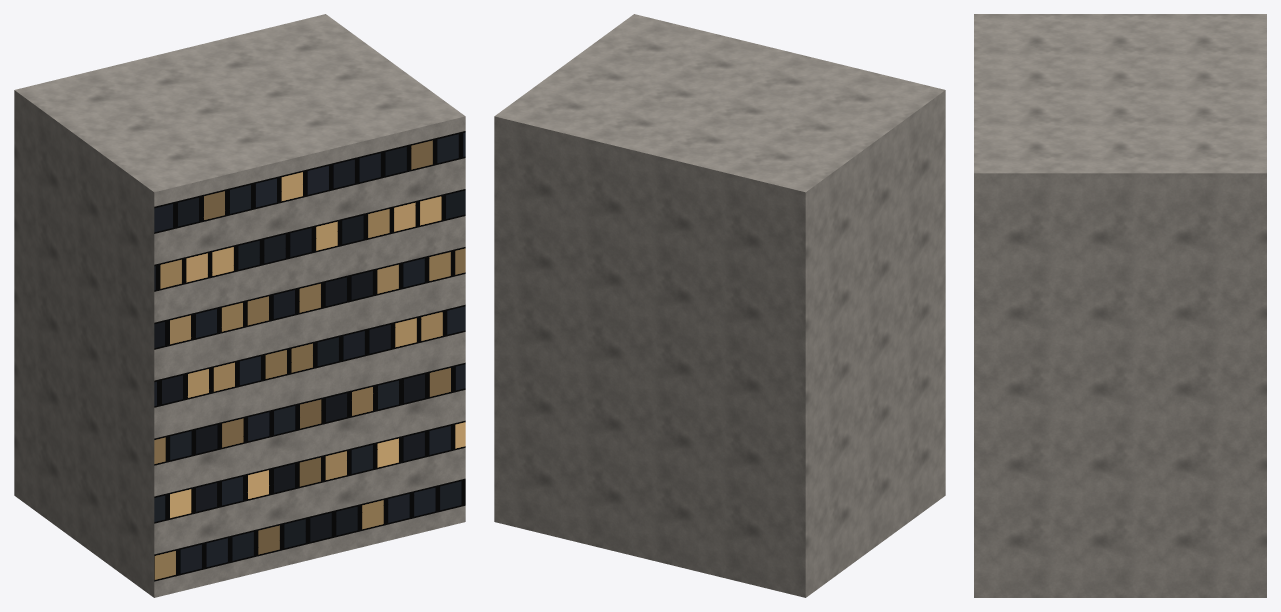
The model's file is Bld_Tower3.fbx.
The picture shows the model from 3 angles, left to right: view 1: azimuth 30°, elevation 25°; view 2: azimuth 150°, elevation 25°; view 3: azimuth 270°, elevation 25°; orthographic projection. The views are drawn at different scales.
Visible parts, largest first — view 1: Bld_Tower3; view 2: Bld_Tower3; view 3: Bld_Tower3.
Part boxes in pixels (left/top/right/bottom): Bld_Tower3: left=14, top=14, right=465, bottom=597; Bld_Tower3: left=494, top=14, right=945, bottom=597; Bld_Tower3: left=974, top=14, right=1266, bottom=597.
Bounding box in the file's own units: 18 × 22.4 × 14.
